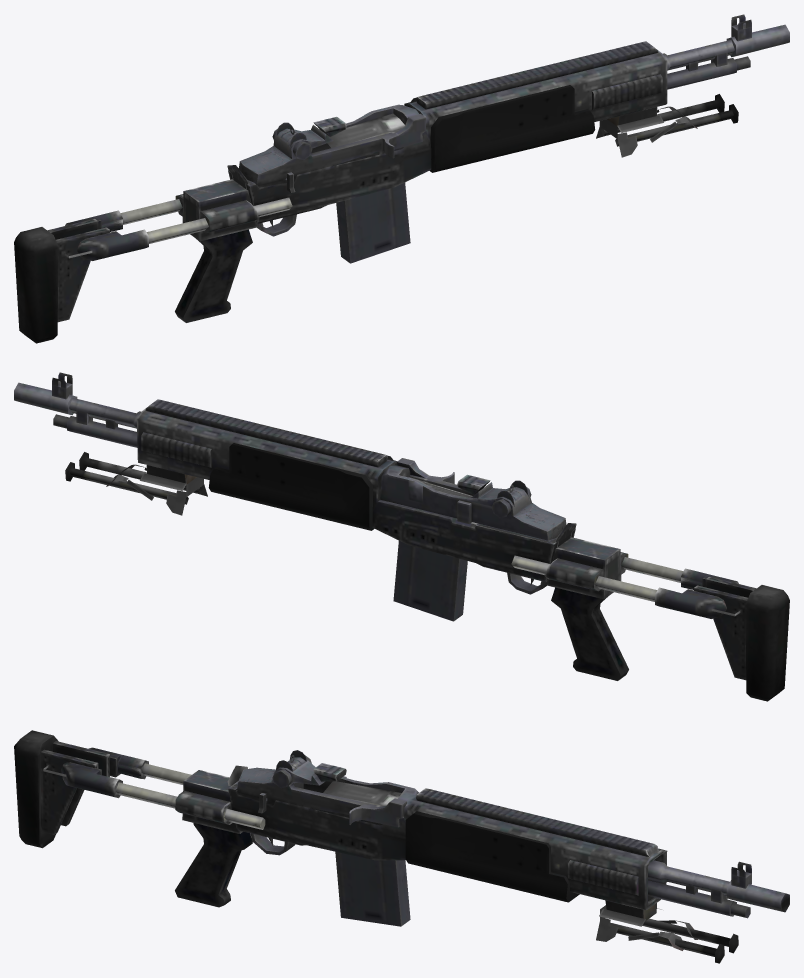
File: ST_WEP_MK14_Lod.FBX
The picture shows the model from 3 angles, top to bottom: view 1: azimuth 30°, elevation 25°; view 2: azimuth 150°, elevation 25°; view 3: azimuth 330°, elevation 25°; orthographic projection.
Visible parts, largest first — view 1: ST_WEP_MK14_Lod; view 2: ST_WEP_MK14_Lod; view 3: ST_WEP_MK14_Lod.
Part boxes in pixels (<box>): ST_WEP_MK14_Lod: <box>14,14,789,343</box>; ST_WEP_MK14_Lod: <box>14,372,789,701</box>; ST_WEP_MK14_Lod: <box>14,730,789,963</box>.
Bounding box in the file's own units: 83.24 × 17.28 × 7.46.
1 material, 1 textured.
